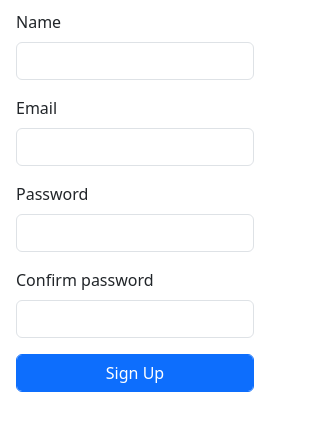
Test: SignupPageComponent › when user interact with email field › should display error message when field is empty
Clear the field with test id "email" at (135, 147), box left=16, top=128, right=254, bottom=166
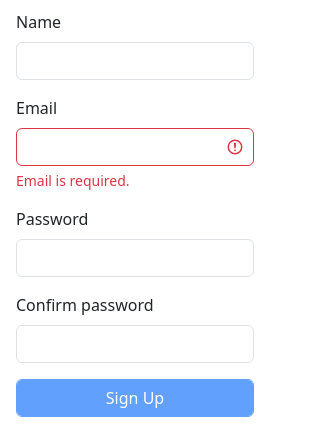
Now the text with test id "error-email-required" reads "Email is required.", box left=16, top=171, right=130, bottom=190
